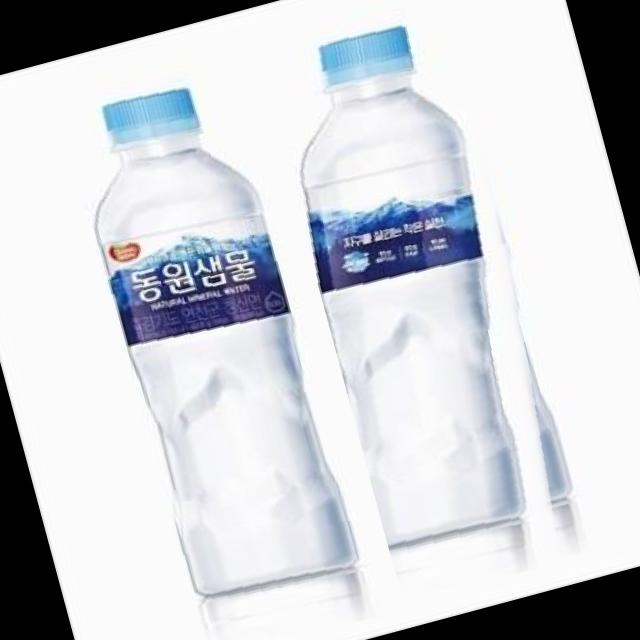plastic bottle: (254, 0, 614, 603), (30, 46, 394, 640)
